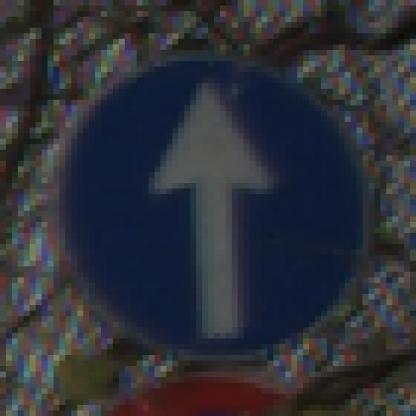AheadOnly: (43, 40, 381, 384)
